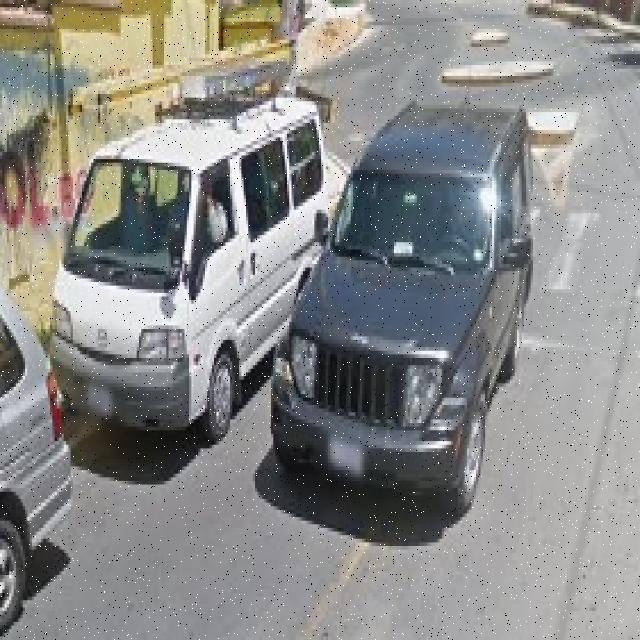cars: (314, 118, 525, 523), (50, 92, 298, 426)
